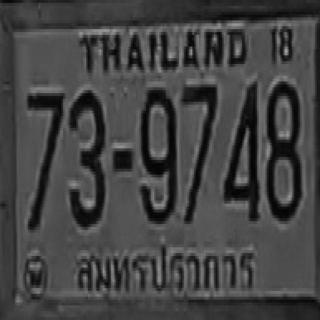N03: (68, 87, 104, 224)
N04: (222, 78, 259, 218)
N07: (26, 89, 63, 228), (181, 80, 216, 220)
N08: (265, 77, 300, 217)
N09: (139, 83, 176, 220)
P57: (74, 232, 261, 302)
